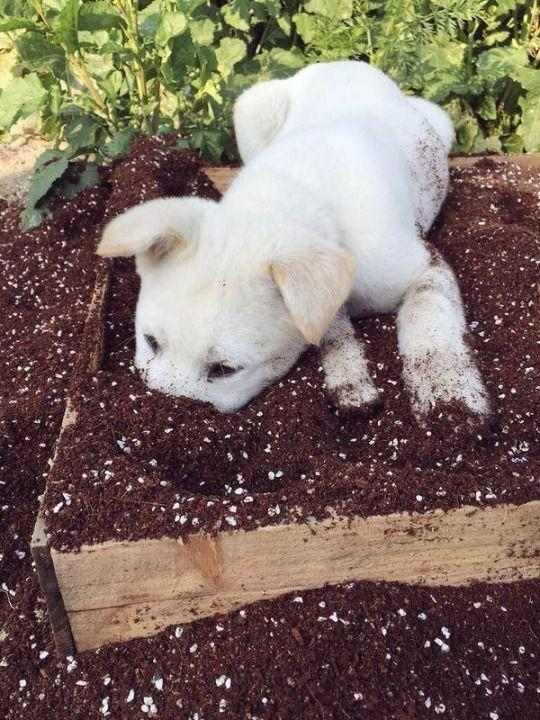puppy-dog: (93, 55, 497, 429)
